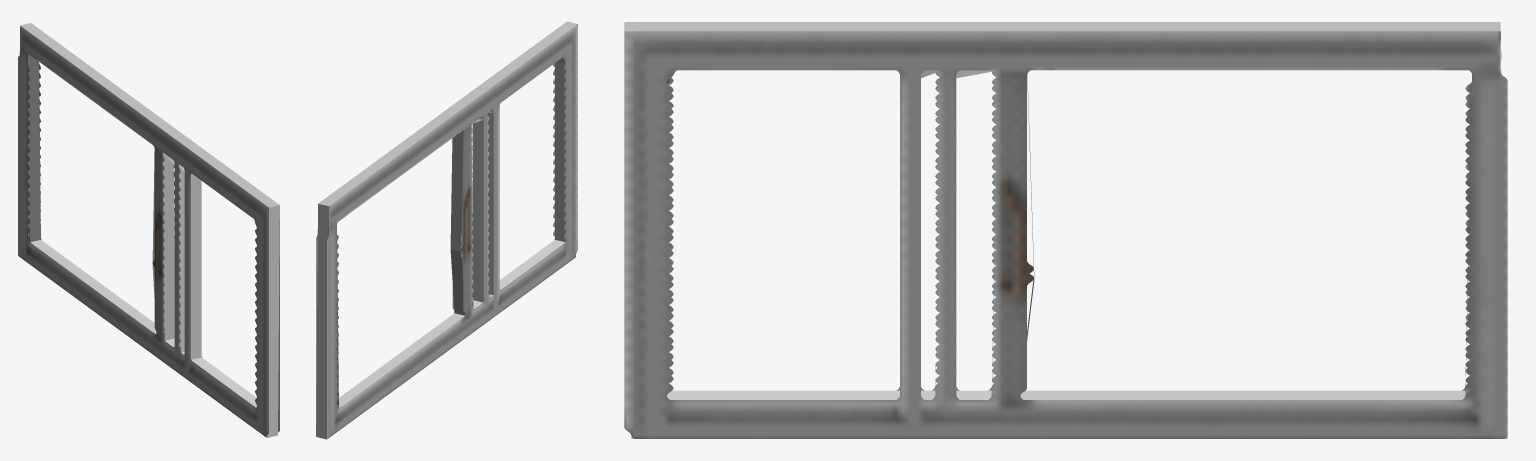
The model's file is pz_native_fixtures_windows_white_48_frame.obj.
3 views of the same model, side by side, from view 1: azimuth 30°, elevation 25°; view 2: azimuth 150°, elevation 25°; view 3: azimuth 270°, elevation 25° (orthographic). The views are drawn at different scales.
Visible parts, largest first — view 1: pz_native_fixtures_windows_white_48_frame; view 2: pz_native_fixtures_windows_white_48_frame; view 3: pz_native_fixtures_windows_white_48_frame.
Boxes of the visible parts, x1,y1,x2,y2 form: pz_native_fixtures_windows_white_48_frame: (18, 23, 279, 437); pz_native_fixtures_windows_white_48_frame: (316, 21, 577, 439); pz_native_fixtures_windows_white_48_frame: (624, 22, 1507, 438).
Size of the model in its own units: 0.04 by 0.8438 by 1.65.
Materials: 1 (1 with a texture image).
